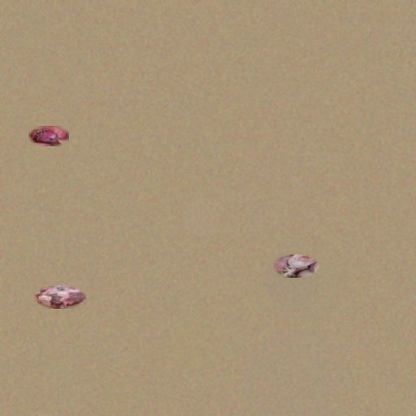damaged: (28, 126, 69, 146)
rotten: (34, 285, 86, 309)
sprouted: (273, 254, 319, 278)
